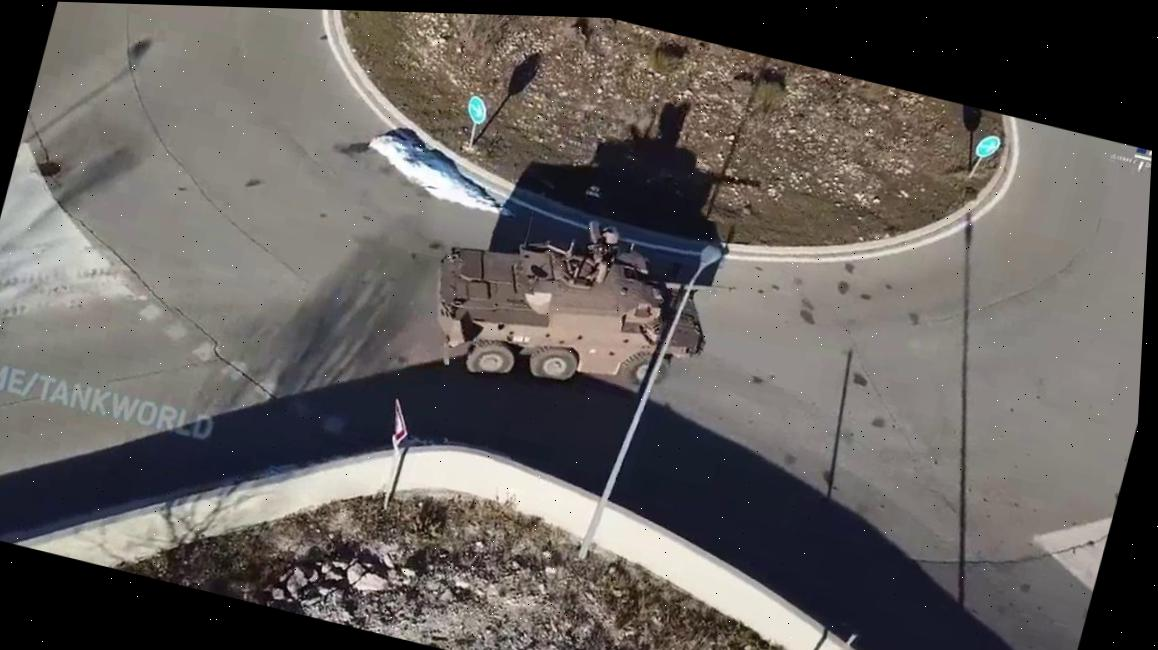tank: (411, 189, 748, 430)
